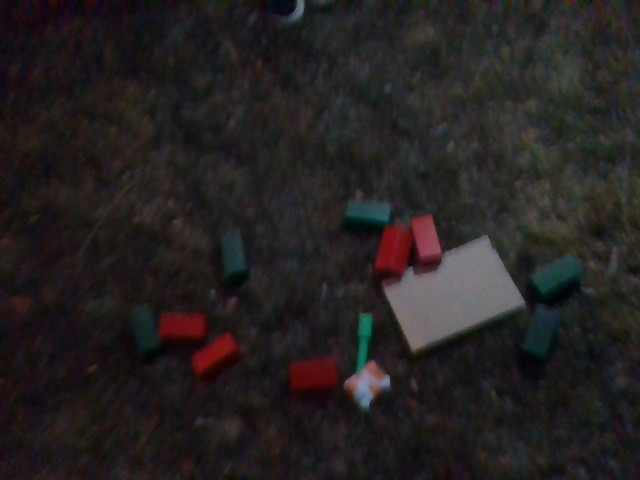Probe: (354, 310, 375, 380)
